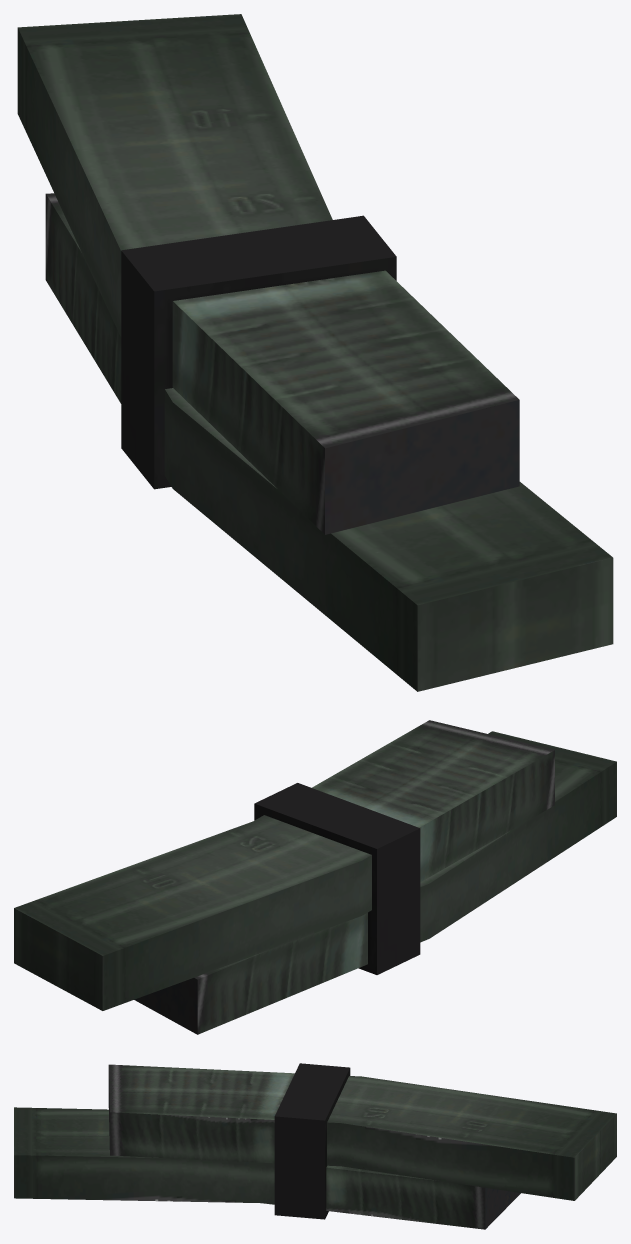
The model's file is t6_attach_fastmag_chicom_world_LOD1.obj.
3 views of the same model, one above another, from view 1: azimuth 30°, elevation 25°; view 2: azimuth 150°, elevation 25°; view 3: azimuth 270°, elevation 25° (orthographic). The views are drawn at different scales.
Visible parts, largest first — view 1: mtl_t6_wpn_smg_chicom_camo1; view 2: mtl_t6_wpn_smg_chicom_camo1; view 3: mtl_t6_wpn_smg_chicom_camo1.
Part boxes in pixels (x1=…): mtl_t6_wpn_smg_chicom_camo1: x1=17, y1=14, x2=613, y2=691; mtl_t6_wpn_smg_chicom_camo1: x1=14, y1=720, x2=616, y2=1034; mtl_t6_wpn_smg_chicom_camo1: x1=14, y1=1063, x2=616, y2=1229.
Size of the model in its own units: 7.53 by 3.7 by 20.44.
